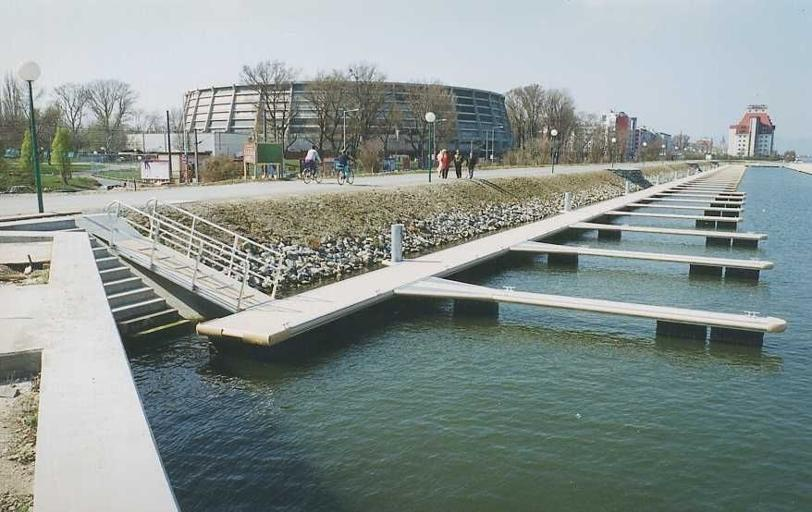non-vehicle: (301, 162, 322, 183), (335, 164, 353, 185)
